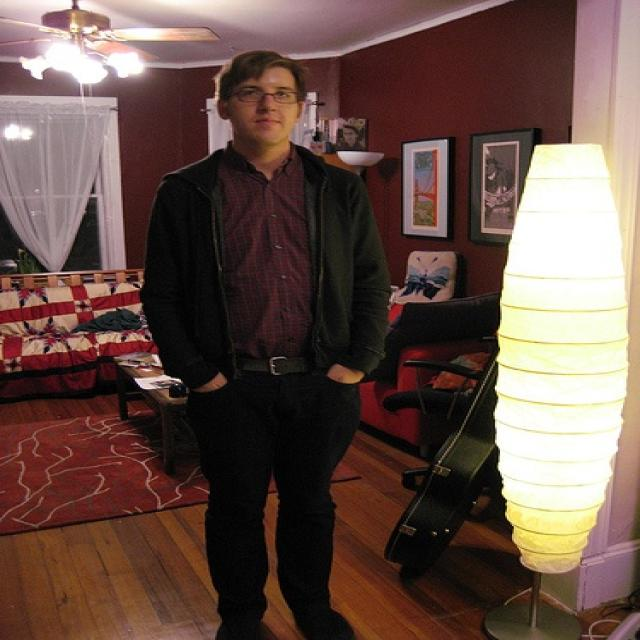sofa: (357, 338, 498, 457)
